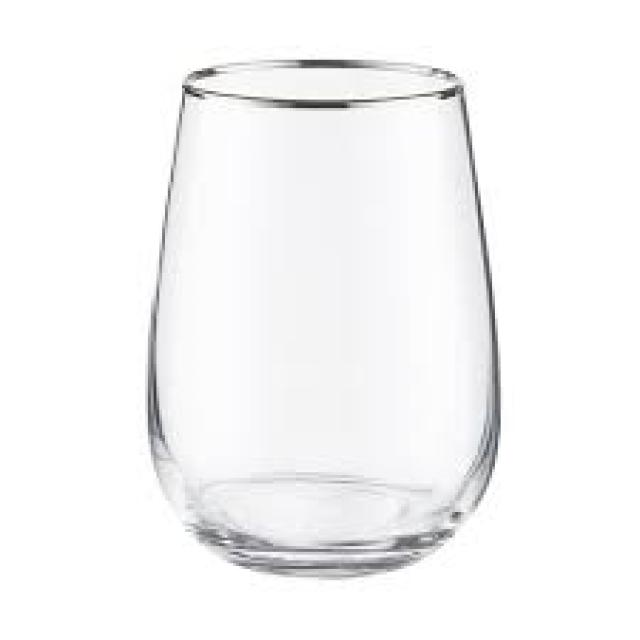glass: (145, 57, 498, 574)
